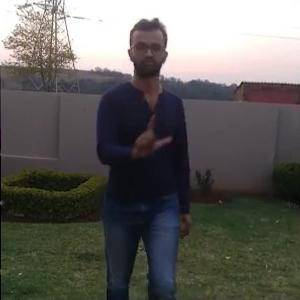land_hand: (129, 108, 173, 154)
